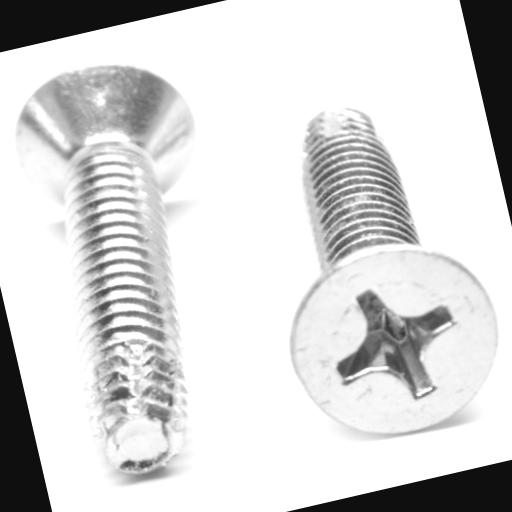Phillips: (275, 222, 512, 456)
